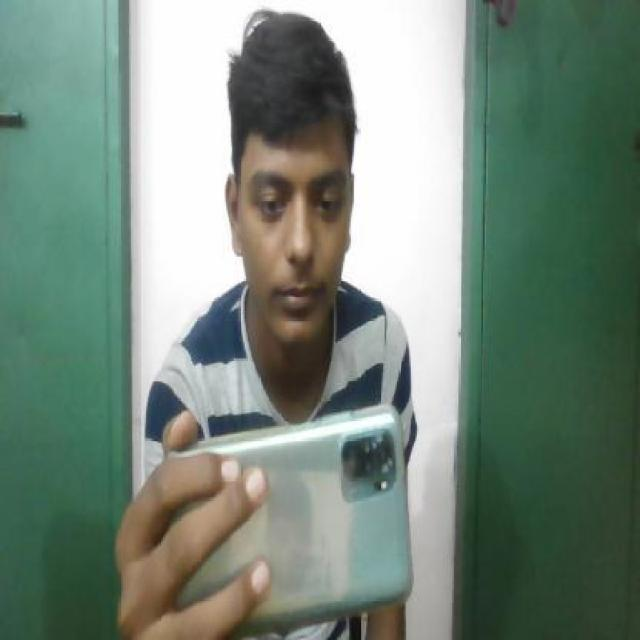Phone: (161, 402, 414, 637)
